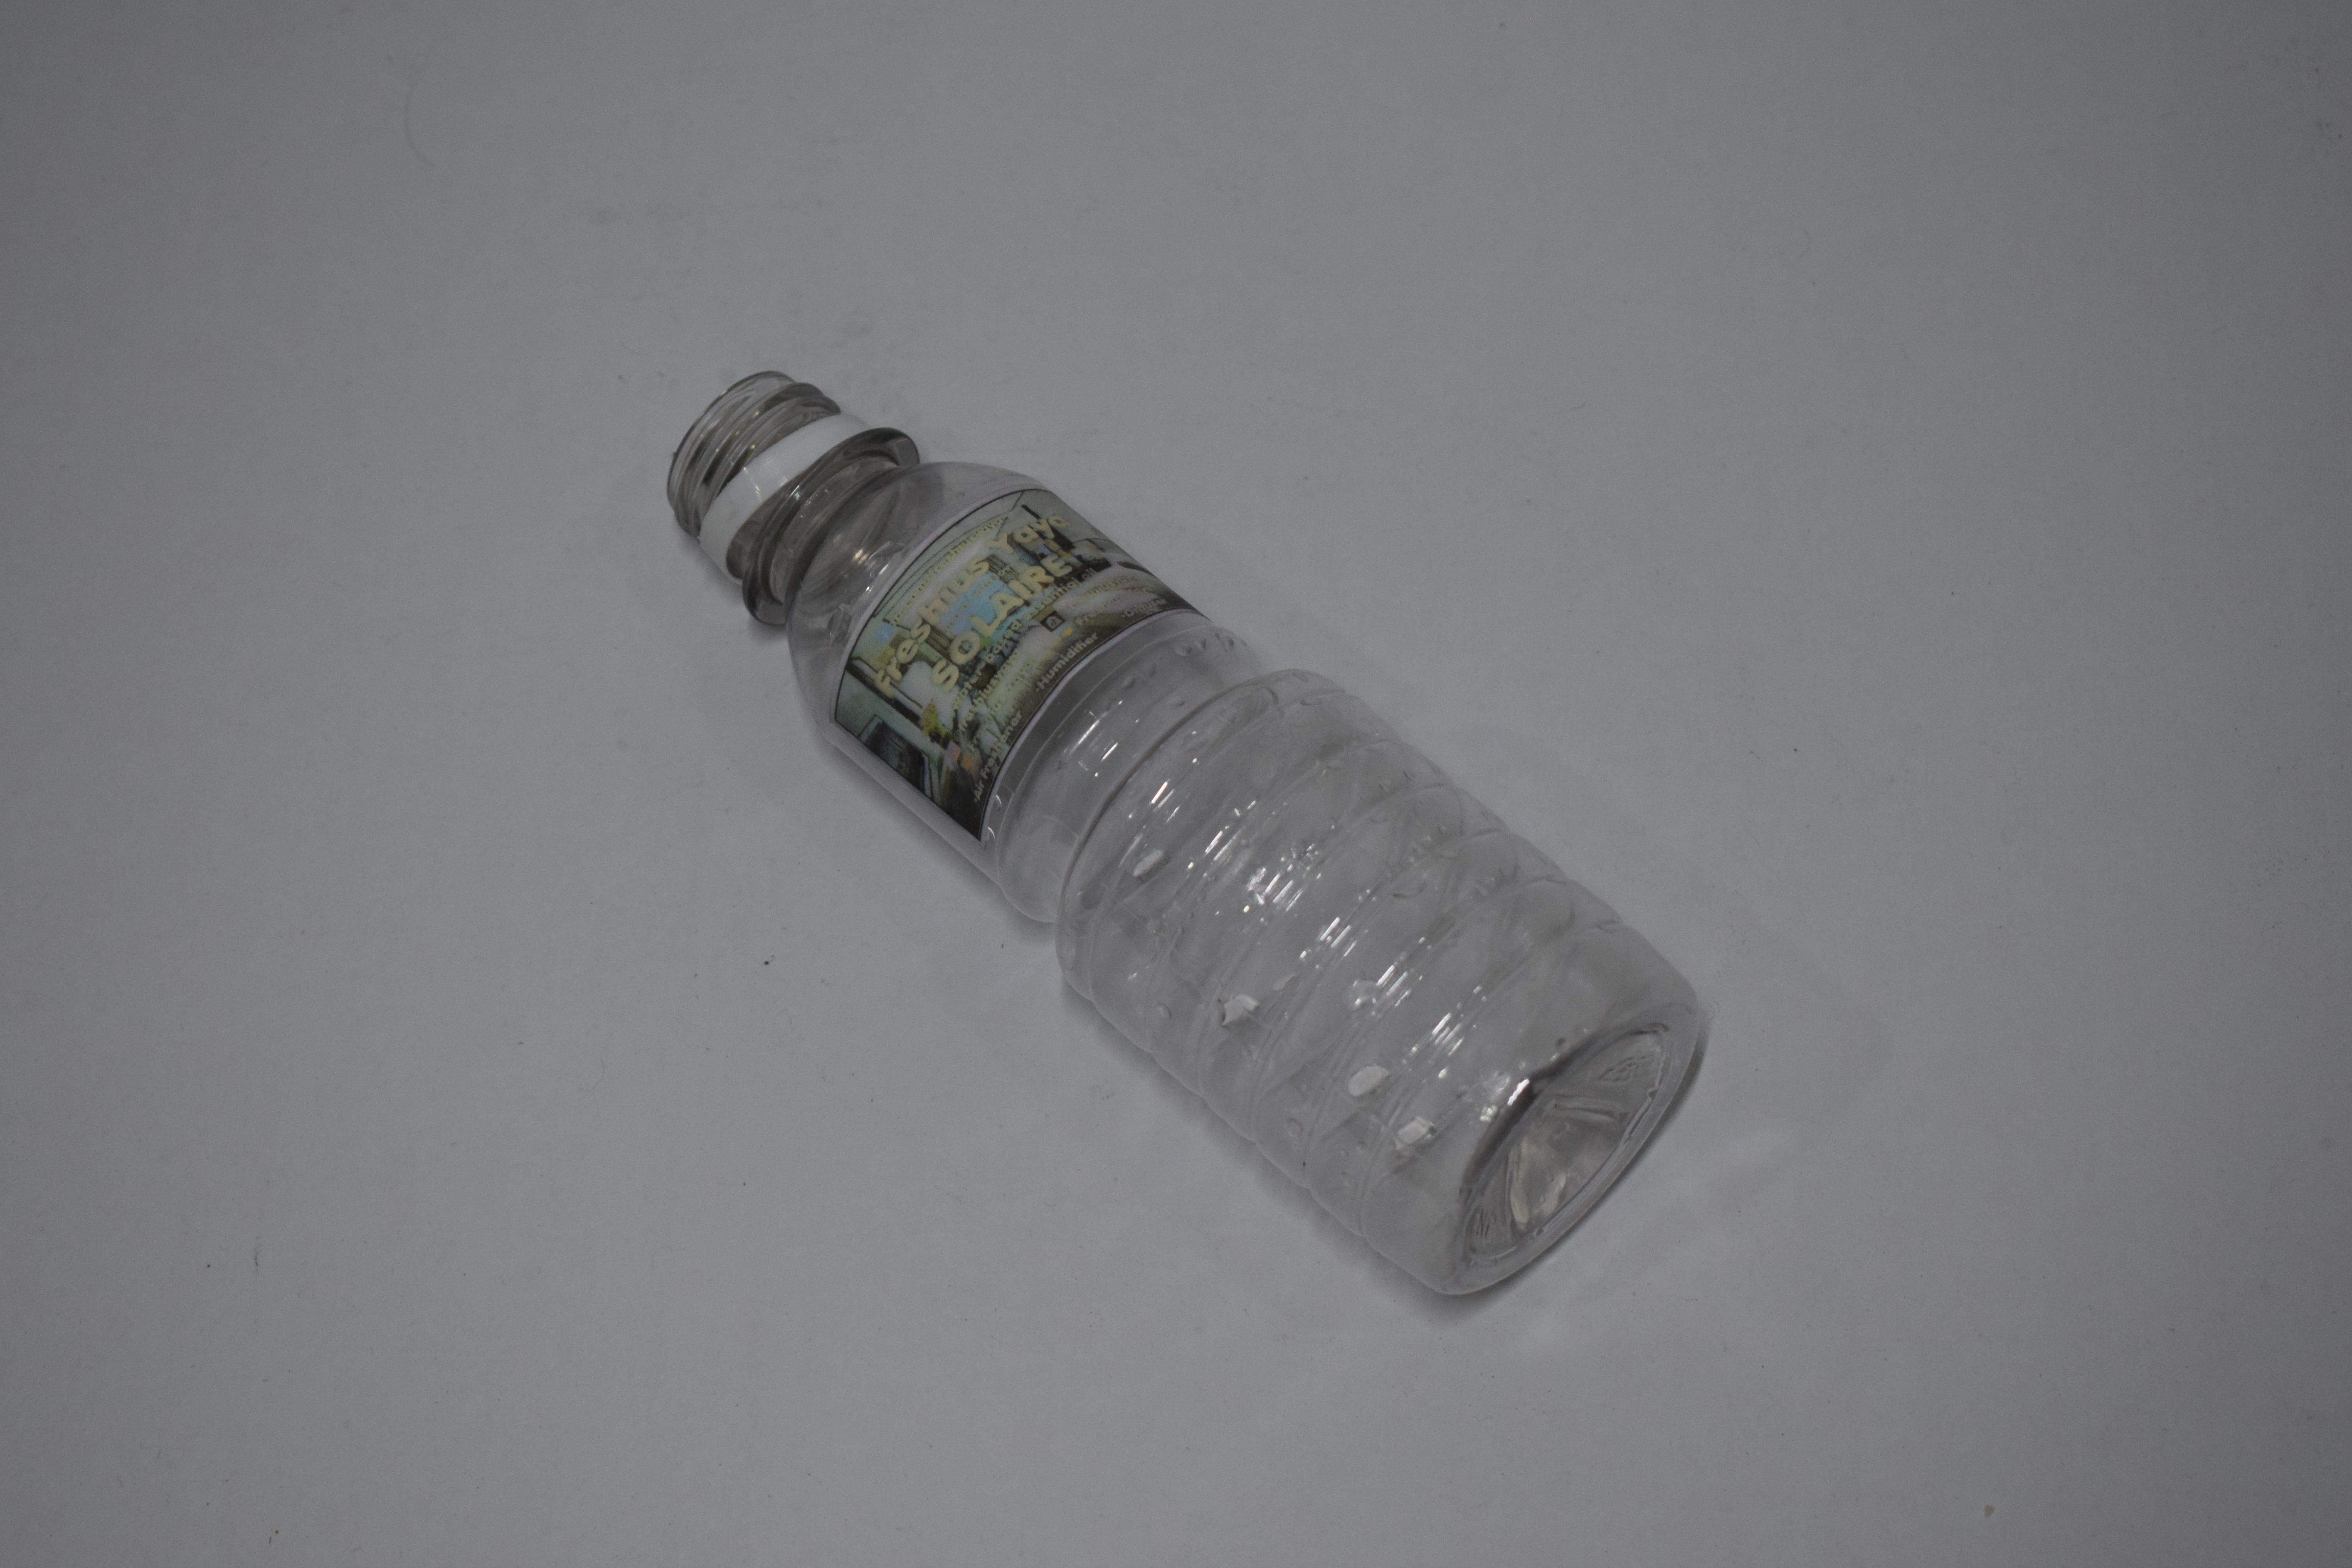bottle: (0, 0, 537, 528)
